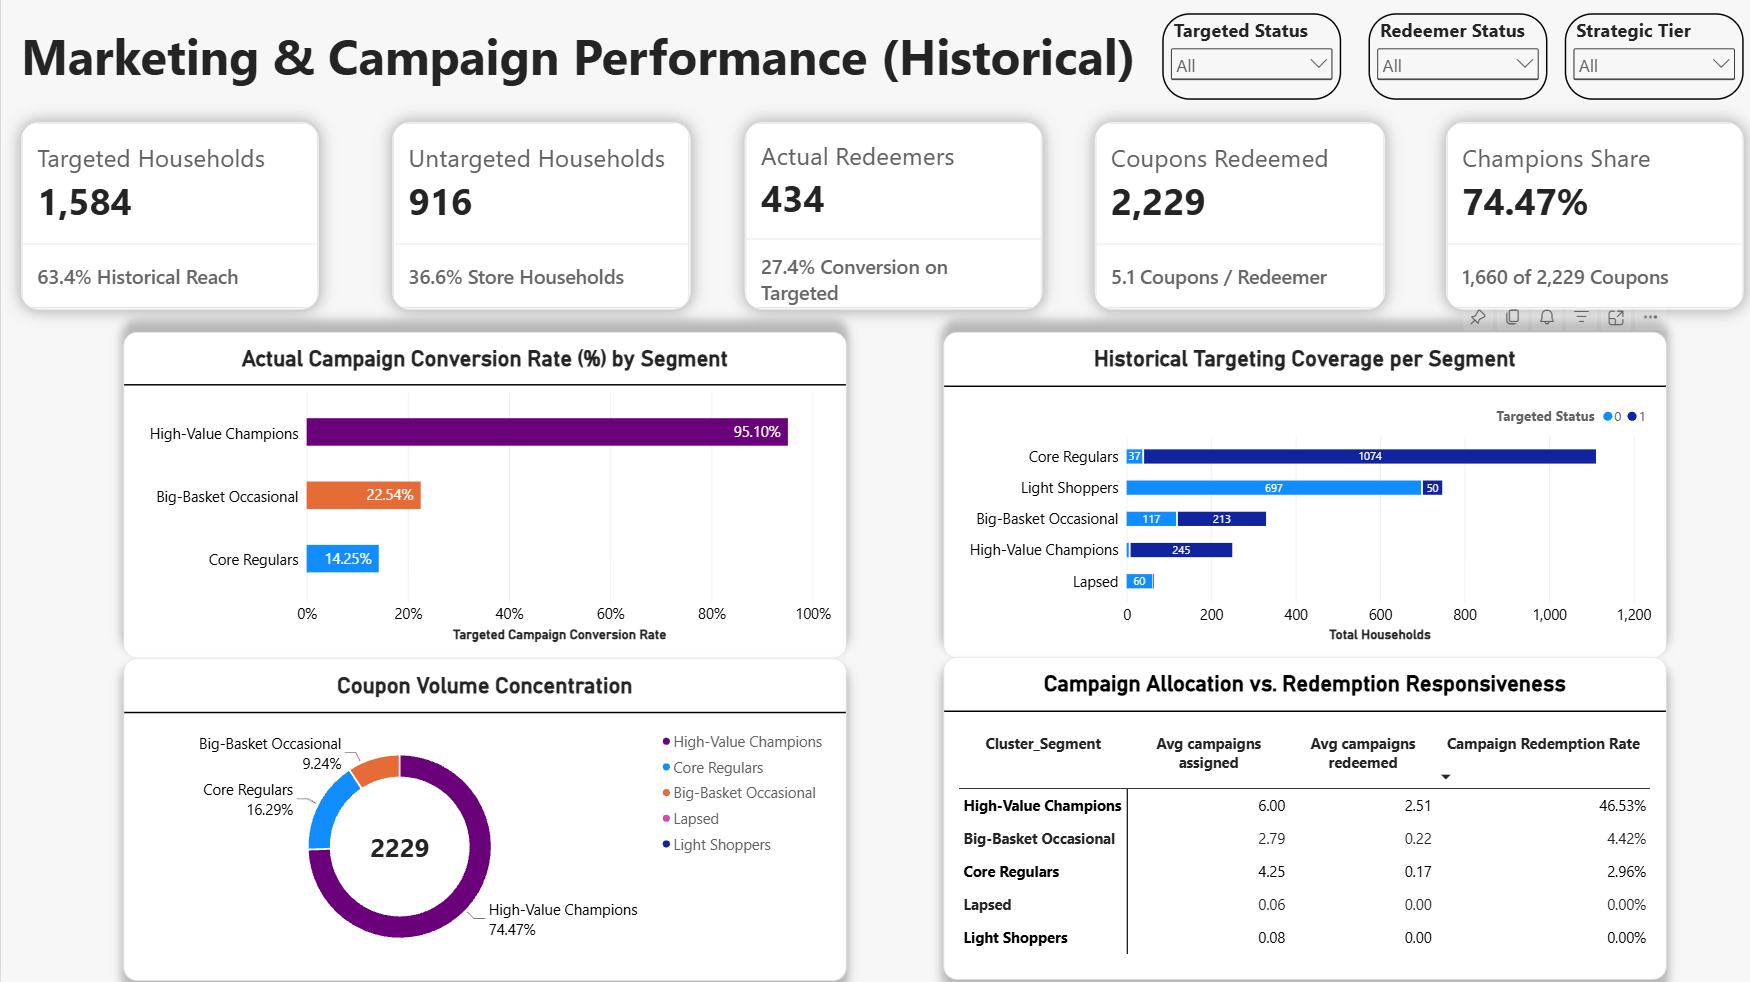

The dashboard page shown, as its layout file describes it:
{"tool":"powerbi","page":{"name":"Marketing & Campaign Performance (Historical).","canvas":[1920,1080],"ordinal":2},"visuals":[{"type":"textbox","box":[21.7,32.6,1230.6,103.2],"z":0},{"type":"slicer","fields":{"Values":["pbi_household_master.was_campaign_targeted"]},"box":[1266.8,23.5,195.4,94.1],"z":1000},{"type":"slicer","fields":{"Values":["pbi_household_master.is_campaign_redeemer"]},"box":[1491.2,23.5,195.4,94.1],"z":2000},{"type":"slicer","fields":{"Values":["pbi_household_master.strategic_tier"]},"box":[1706.5,23.5,195.4,94.1],"z":3000},{"type":"cardVisual","fields":{"Data":["_Measures.Campaign Targeted Households"]},"box":[21.7,141.2,325,204.5],"z":4000},{"type":"cardVisual","fields":{"Data":["page3_measures_.Untargeted Households"]},"box":[427.1,141.2,325.7,204.5],"z":5000},{"type":"cardVisual","fields":{"Data":["_Measures.Actual Redeemers"]},"box":[810.7,141.2,325,204.5],"z":6000},{"type":"cardVisual","fields":{"Data":["page3_measures_.Total Coupons Redeemed"]},"box":[1192.6,141.2,317,204.5],"z":7000},{"type":"cardVisual","fields":{"Data":["page3_measures_.Champions Coupon Share"]},"box":[1576.2,141.2,325,204.5],"z":8000},{"type":"clusteredBarChart","title":"Actual Campaign Conversion Rate (%) by Segment","fields":{"Category":["pbi_household_master.Cluster_Segment"],"Y":["page3_measures_.Targeted Campaign Conversion Rate"]},"box":[133.9,371,789,356],"z":9000},{"type":"barChart","title":"Historical Targeting Coverage per Segment","fields":{"Category":["pbi_household_master.Cluster_Segment"],"Series":["pbi_household_master.was_campaign_targeted"],"Y":["_Measures.Total Households"]},"box":[1027.9,371,789,356],"z":10000},{"type":"donutChart","title":"Coupon Volume Concentration","fields":{"Category":["pbi_household_master.Cluster_Segment"],"Y":["Sum(pbi_household_master.coupons_redeemed)"]},"box":[133.9,727.5,789,352],"z":11000},{"type":"pivotTable","title":"Campaign Allocation vs. Redemption Responsiveness","fields":{"Rows":["pbi_household_master.Cluster_Segment"],"Values":["Avg(pbi_household_master.campaigns_assigned)","Avg(pbi_household_master.campaigns_redeemed)","Avg(pbi_household_master.Campaign_Redemption_Rate)"]},"box":[1027.9,725.7,789,352],"z":12000}]}

Visuals, with their boxes in screenshot pixels (x1, y1, x2, y2), scaled from the page's 1920x1080 canvas onto the 1750x982 screenshot:
textbox: 20 30 1141 123
slicer - pbi_household_master.was_campaign_targeted: 1155 21 1333 107
slicer - pbi_household_master.is_campaign_redeemer: 1359 21 1537 107
slicer - pbi_household_master.strategic_tier: 1555 21 1734 107
cardVisual - _Measures.Campaign Targeted Households: 20 128 316 314
cardVisual - page3_measures_.Untargeted Households: 389 128 686 314
cardVisual - _Measures.Actual Redeemers: 739 128 1035 314
cardVisual - page3_measures_.Total Coupons Redeemed: 1087 128 1376 314
cardVisual - page3_measures_.Champions Coupon Share: 1437 128 1733 314
"Actual Campaign Conversion Rate (%) by Segment" clusteredBarChart: 122 337 841 661
"Historical Targeting Coverage per Segment" barChart: 937 337 1656 661
"Coupon Volume Concentration" donutChart: 122 661 841 981
"Campaign Allocation vs. Redemption Responsiveness" pivotTable: 937 660 1656 980
